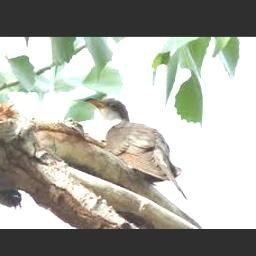Cuckoo: (84, 97, 189, 202)
